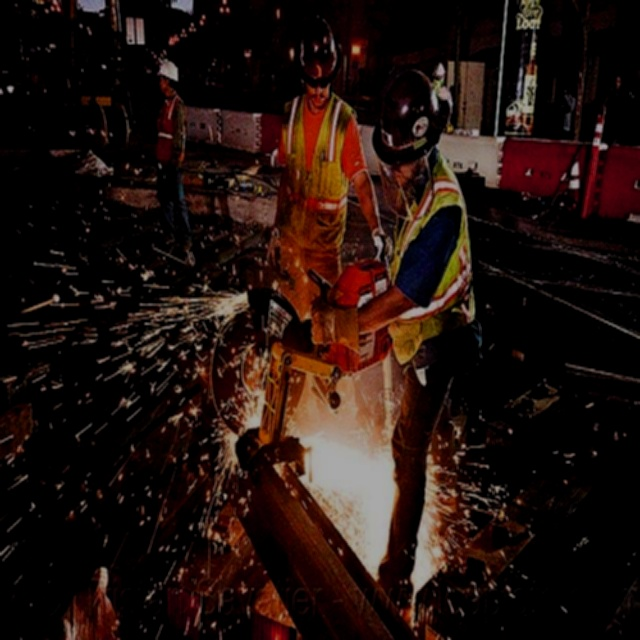Con_Casco: (298, 15, 342, 87)
Con_Chaleco: (280, 91, 352, 249)
